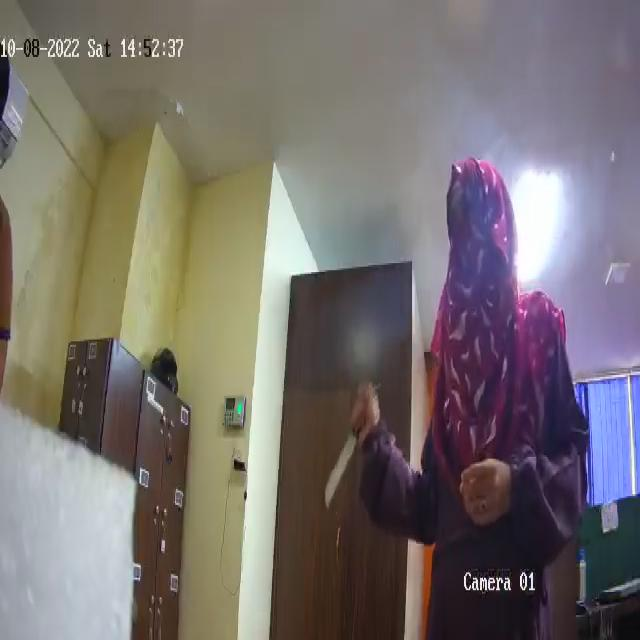weapon: (321, 375, 380, 519)
